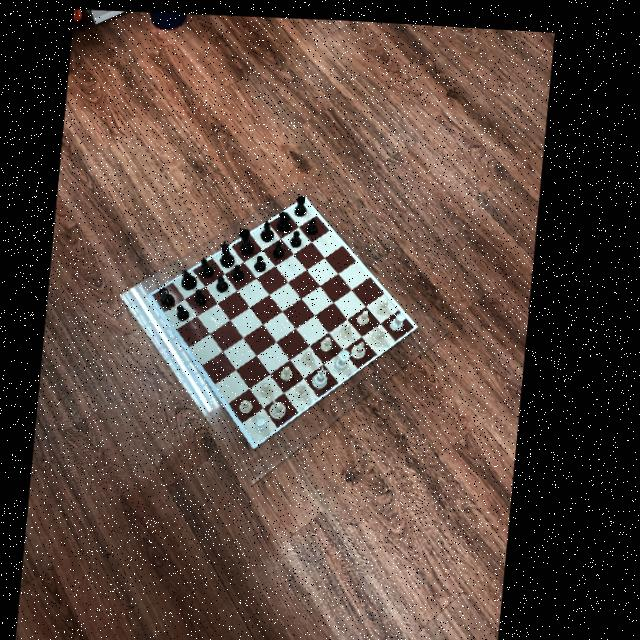chessboard-corner: (147, 287, 158, 299), (260, 439, 269, 450), (419, 314, 427, 325), (302, 189, 312, 197)
